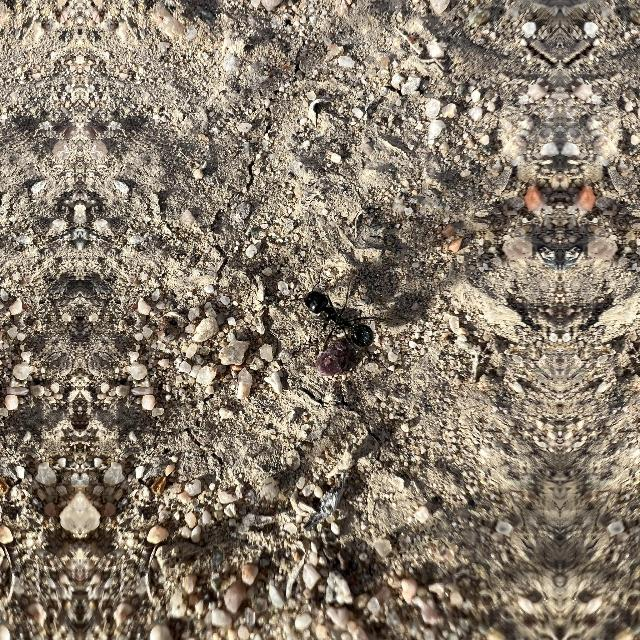Messor: (290, 275, 386, 371)
